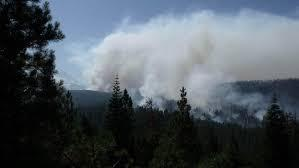yanwu: (66, 7, 298, 122)
